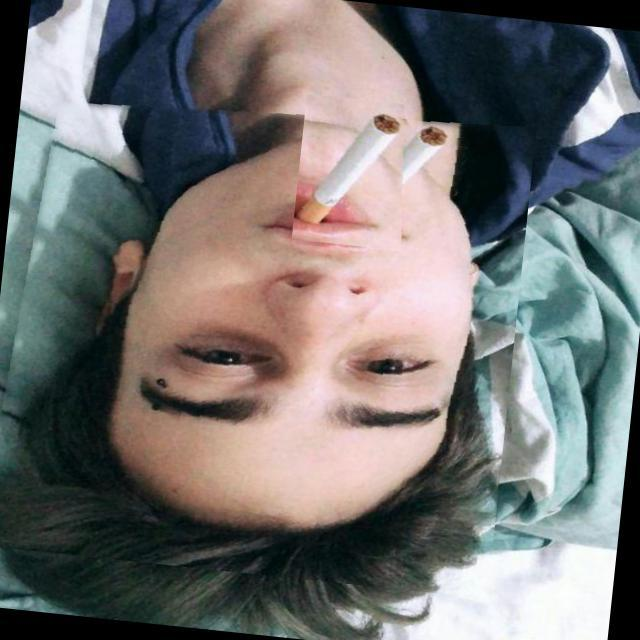cigarette: (292, 95, 417, 252)
